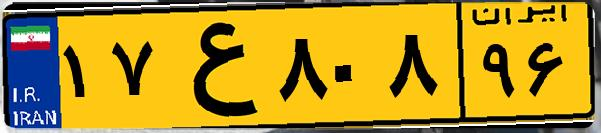0: (330, 28, 385, 110)
1: (57, 26, 110, 100)
6: (525, 38, 570, 115)
7: (110, 28, 158, 98)
8: (270, 28, 330, 110), (385, 28, 445, 110)
9: (475, 38, 525, 113)
ع: (158, 12, 270, 120)
